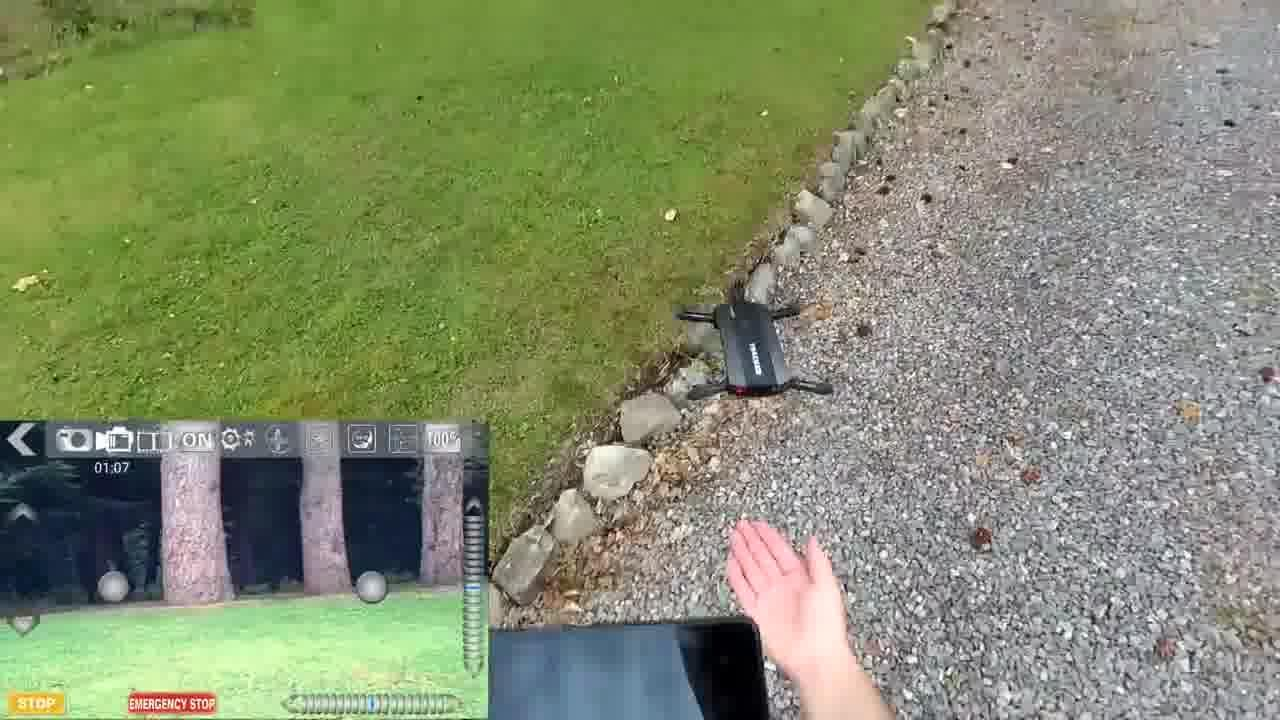drone: (664, 289, 864, 409)
